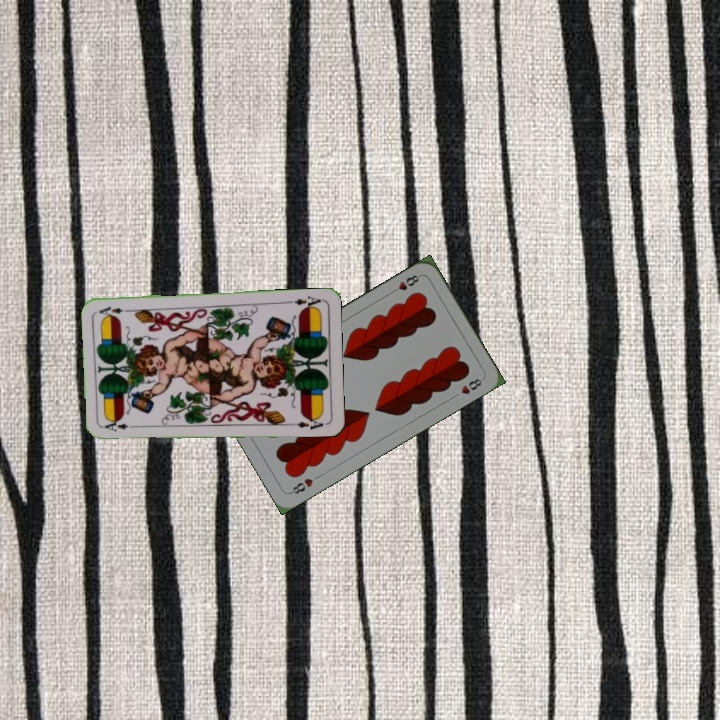EA: (284, 292, 324, 312), (101, 419, 140, 434)
H8: (387, 271, 424, 297), (286, 474, 316, 497)
